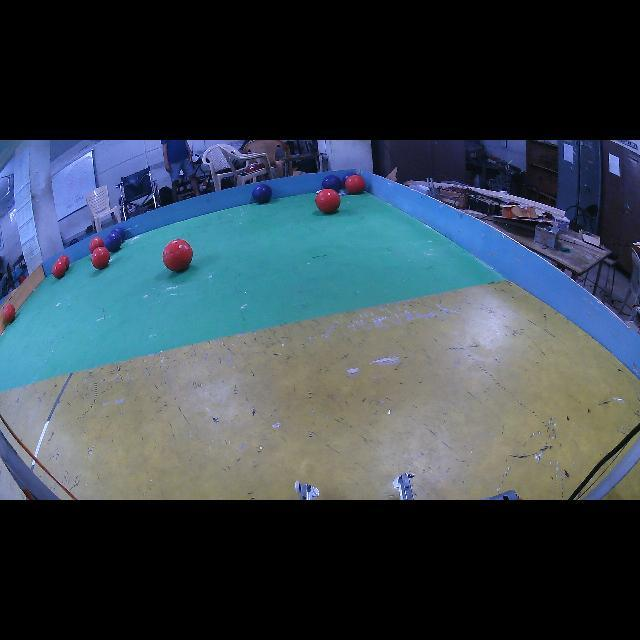P: (252, 184, 272, 204), (104, 232, 121, 252), (322, 175, 342, 191), (342, 171, 358, 188), (111, 228, 125, 241)
R: (162, 239, 192, 271), (315, 189, 341, 214), (91, 246, 110, 270), (345, 175, 366, 194), (52, 261, 66, 279), (4, 304, 15, 324), (89, 238, 104, 252), (59, 255, 70, 269)
